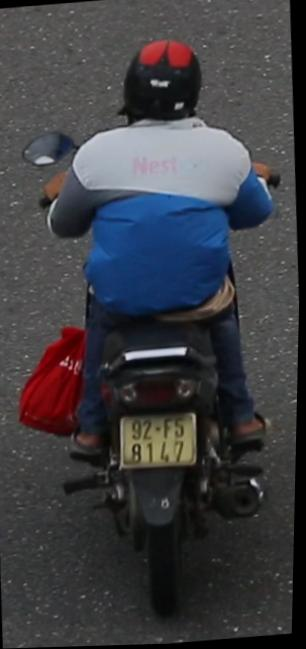LP: (116, 405, 206, 476)
helmet: (110, 33, 210, 137)
